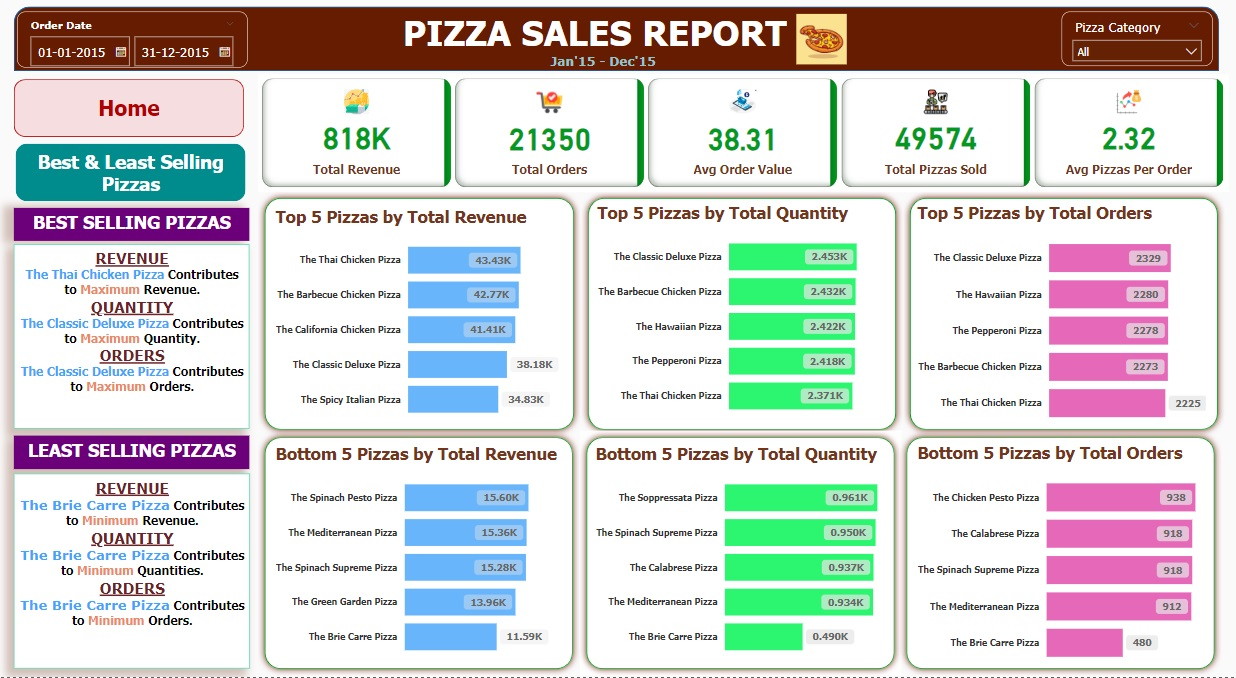

Layout of this report page (visuals, bound fields, positions):
{"tool":"powerbi","page":{"name":"Best & Least Selling Pizzas","canvas":[1500,820],"ordinal":1},"visuals":[{"type":"cardVisual","fields":{"Data":["Order Details.Total Revenue","Order Details.Total Orders","Order Details.Average Order Value","Order Details.Total Pizzas Sold","Order Details.Average Pizzas Per Order"]},"box":[313.5,89.6,1177.1,142.9],"z":0},{"type":"shape","box":[17.1,8.5,1460.7,78],"z":1000},{"type":"textbox","box":[434.6,8.6,576.6,66.7],"z":2000},{"type":"textbox","box":[628.2,60.2,208.7,30.1],"z":3000},{"type":"image","box":[944.5,12.9,105.4,71],"z":4000},{"type":"shape","box":[314.1,232.4,391,296.9],"z":5000},{"type":"textbox","box":[17.1,251.6,285.7,40],"z":6000},{"type":"textbox","box":[17.1,296.4,285.7,223.9],"z":7000},{"type":"textbox","box":[17.1,528.9,285.7,40.5],"z":8000},{"type":"textbox","box":[17.2,574.4,286.1,236.7],"z":9000},{"type":"slicer","fields":{"Values":["Pizzas Types.Pizza Category"]},"box":[1288.9,13.2,183,66],"z":10000},{"type":"slicer","fields":{"Values":["Orders.Date"]},"box":[22.6,13.2,279.3,67.9],"z":11000},{"type":"shape","box":[705.7,232.4,389.4,296.9],"z":12000},{"type":"shape","box":[1095.1,232.4,389.4,296.9],"z":13000},{"type":"shape","box":[314.1,522.8,389.4,296.9],"z":14000},{"type":"shape","box":[703.5,522.8,389.4,296.9],"z":15000},{"type":"shape","box":[1092.9,522.8,389.4,296.9],"z":16000},{"type":"barChart","title":"Top 5 Pizzas by Total Revenue","fields":{"Category":["Pizzas Types.Pizza Name"],"Y":["Order Details.Total Revenue"]},"box":[329.2,249.6,359.3,273.2],"z":17000},{"type":"barChart","title":"Bottom 5 Pizzas by Total Revenue","fields":{"Category":["Pizzas Types.Pizza Name"],"Y":["Order Details.Total Revenue"]},"box":[329.2,537.9,359.3,273.2],"z":18000},{"type":"barChart","title":"Top 5 Pizzas by Total Quantity","fields":{"Category":["Pizzas Types.Pizza Name"],"Y":["Order Details.Total Pizzas Sold"]},"box":[720.7,245.3,359.3,273.2],"z":19000},{"type":"barChart","title":"Bottom 5 Pizzas by Total Quantity","fields":{"Category":["Pizzas Types.Pizza Name"],"Y":["Order Details.Total Pizzas Sold"]},"box":[718.6,537.9,359.3,273.2],"z":20000},{"type":"barChart","title":"Top 5 Pizzas by Total Orders","fields":{"Category":["Pizzas Types.Pizza Name"],"Y":["Order Details.Total Orders"]},"box":[1108.3,246.6,360,283.4],"z":21000},{"type":"barChart","title":"Bottom 5 Pizzas by Total Orders","fields":{"Category":["Pizzas Types.Pizza Name"],"Y":["Order Details.Total Orders"]},"box":[1108,535.7,359.3,284],"z":22000},{"type":"pageNavigator","box":[19.2,174.9,279.4,70],"z":23000},{"type":"pageNavigator","box":[17.1,96,279.3,70],"z":24000}]}

Visuals, with their boxes in screenshot pixels (x1, y1, x2, y2), scaled from the page's 1500x820 canvas onto the 1236x678 screenshot:
cardVisual - Order Details.Total Revenue x Order Details.Total Orders: {"left": 258, "top": 74, "right": 1228, "bottom": 192}
shape: {"left": 14, "top": 7, "right": 1218, "bottom": 72}
textbox: {"left": 358, "top": 7, "right": 833, "bottom": 62}
textbox: {"left": 518, "top": 50, "right": 690, "bottom": 75}
image: {"left": 778, "top": 11, "right": 865, "bottom": 69}
shape: {"left": 259, "top": 192, "right": 581, "bottom": 438}
textbox: {"left": 14, "top": 208, "right": 250, "bottom": 241}
textbox: {"left": 14, "top": 245, "right": 250, "bottom": 430}
textbox: {"left": 14, "top": 437, "right": 250, "bottom": 471}
textbox: {"left": 14, "top": 475, "right": 250, "bottom": 671}
slicer - Pizzas Types.Pizza Category: {"left": 1062, "top": 11, "right": 1213, "bottom": 65}
slicer - Orders.Date: {"left": 19, "top": 11, "right": 249, "bottom": 67}
shape: {"left": 581, "top": 192, "right": 902, "bottom": 438}
shape: {"left": 902, "top": 192, "right": 1223, "bottom": 438}
shape: {"left": 259, "top": 432, "right": 580, "bottom": 677}
shape: {"left": 580, "top": 432, "right": 901, "bottom": 677}
shape: {"left": 901, "top": 432, "right": 1221, "bottom": 677}
"Top 5 Pizzas by Total Revenue" barChart: {"left": 271, "top": 206, "right": 567, "bottom": 432}
"Bottom 5 Pizzas by Total Revenue" barChart: {"left": 271, "top": 445, "right": 567, "bottom": 671}
"Top 5 Pizzas by Total Quantity" barChart: {"left": 594, "top": 203, "right": 890, "bottom": 429}
"Bottom 5 Pizzas by Total Quantity" barChart: {"left": 592, "top": 445, "right": 888, "bottom": 671}
"Top 5 Pizzas by Total Orders" barChart: {"left": 913, "top": 204, "right": 1210, "bottom": 438}
"Bottom 5 Pizzas by Total Orders" barChart: {"left": 913, "top": 443, "right": 1209, "bottom": 677}
pageNavigator: {"left": 16, "top": 145, "right": 246, "bottom": 202}
pageNavigator: {"left": 14, "top": 79, "right": 244, "bottom": 137}
